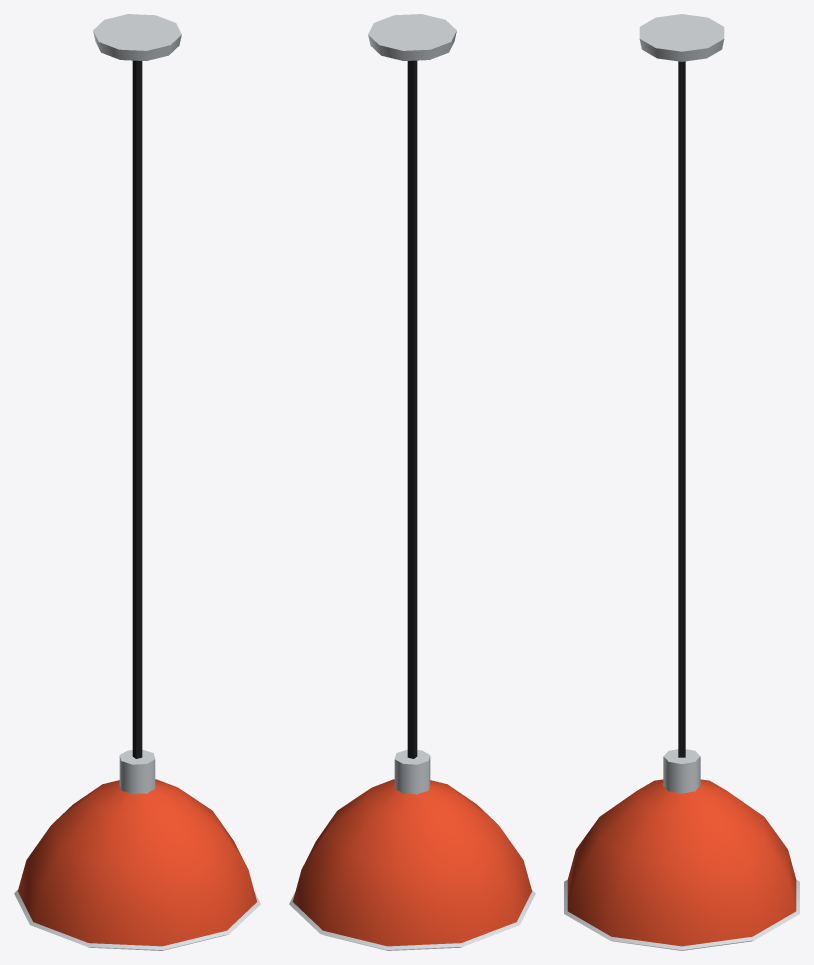
File: Shop_TallPendant.fbx
3 renders of one model, left to right at view 1: azimuth 30°, elevation 25°; view 2: azimuth 150°, elevation 25°; view 3: azimuth 270°, elevation 25°, orthographic.
Parts seen in each view (by area): view 1: Shade, Cord, Chrome; view 2: Shade, Cord, Chrome; view 3: Shade, Chrome, Cord.
Boxes of the visible parts, <box> form: Shade: <box>18,779,256,946</box>; Cord: <box>132,60,142,758</box>; Chrome: <box>14,14,260,950</box>; Shade: <box>293,779,531,946</box>; Cord: <box>407,60,417,758</box>; Chrome: <box>289,14,535,950</box>; Shade: <box>567,779,796,946</box>; Chrome: <box>564,14,799,950</box>; Cord: <box>678,61,685,757</box>.
Bounding box in the file's own units: 200 × 773 × 190.
